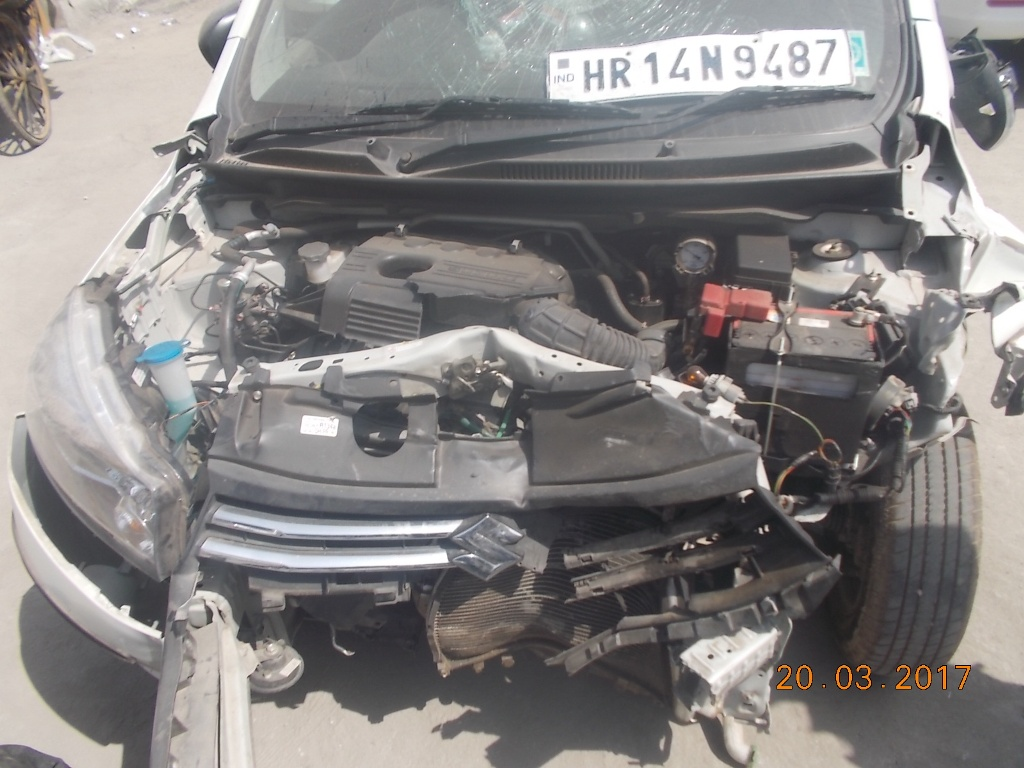Large_tear_or_damage: (16, 231, 1023, 731)
